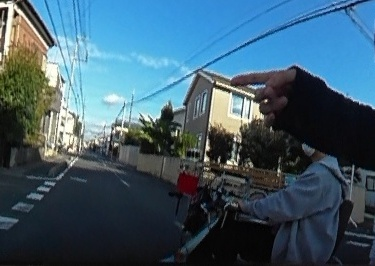person: (236, 125, 344, 266)
